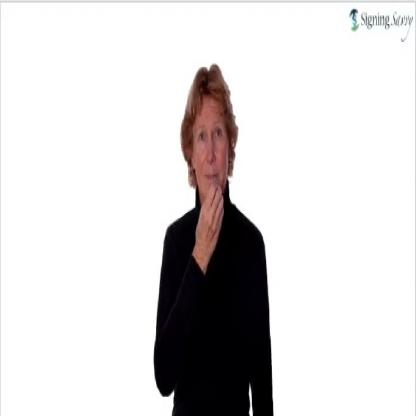Food: (178, 59, 248, 263)
